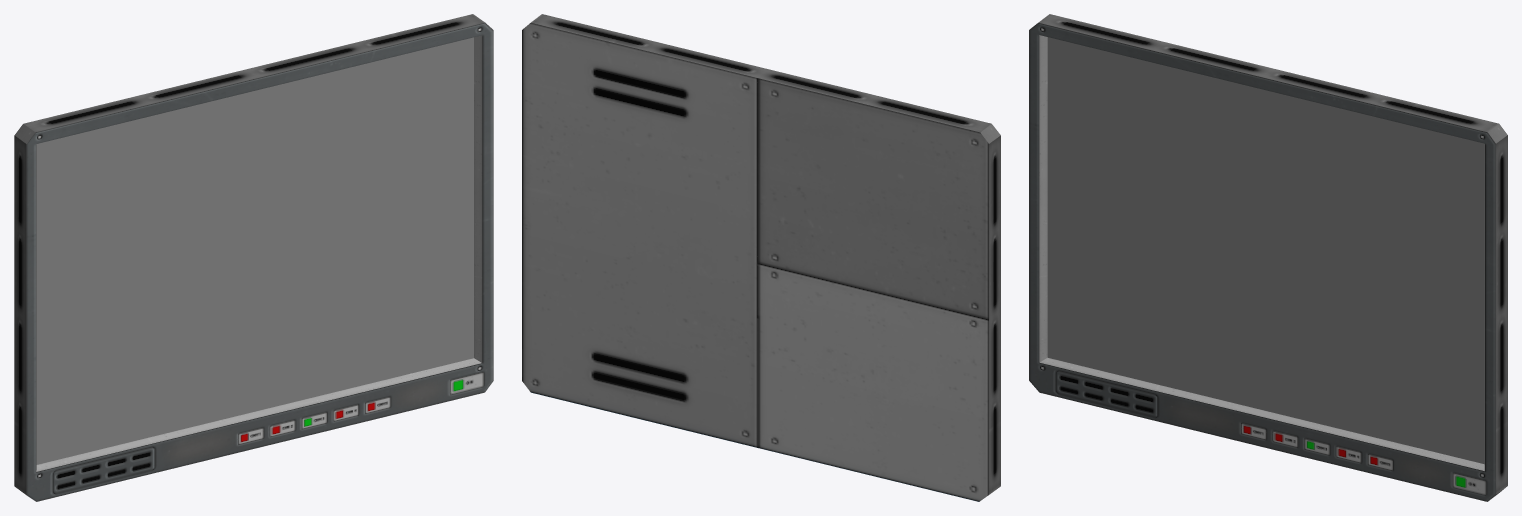
The model's file is TV_Monitor_01.FBX.
The picture shows the model from 3 angles, left to right: view 1: azimuth 30°, elevation 25°; view 2: azimuth 150°, elevation 25°; view 3: azimuth 330°, elevation 25°; orthographic projection.
Visible parts, largest first — view 1: Screen, TV_Monitor_01; view 2: TV_Monitor_01; view 3: Screen, TV_Monitor_01.
Part boxes in pixels (bbox=[...]): Screen: bbox=[36, 37, 473, 464]; TV_Monitor_01: bbox=[14, 14, 493, 501]; TV_Monitor_01: bbox=[522, 14, 1000, 501]; Screen: bbox=[1047, 37, 1484, 464]; TV_Monitor_01: bbox=[1029, 14, 1507, 501].
Bounding box in the file's own units: 47.14 × 35.67 × 2.06.
